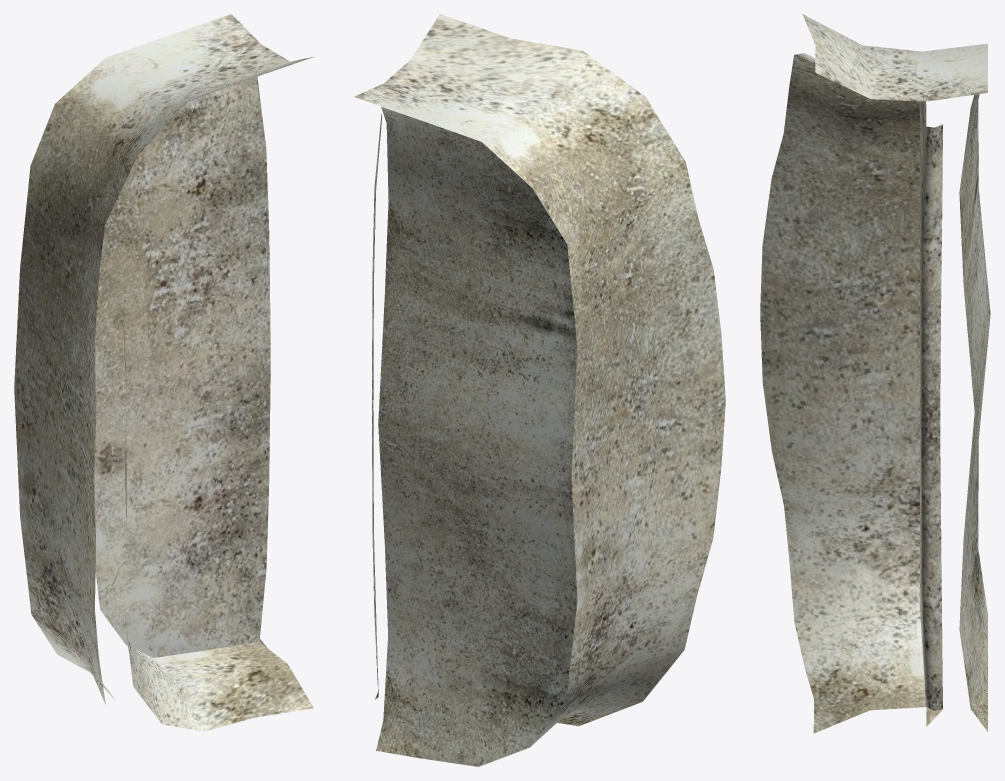
Rendered from furniture_duhoc_couch_dirty1.glb.
3 views of the same model, side by side, from view 1: azimuth 30°, elevation 25°; view 2: azimuth 150°, elevation 25°; view 3: azimuth 270°, elevation 25° (orthographic).
Bounding box in the file's own units: 38.63 × 95.73 × 29.62.
1 material, 1 textured.
